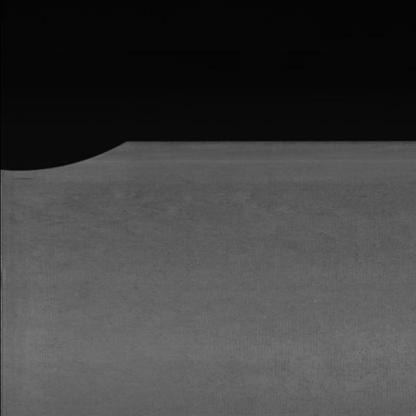crescent_gap: (0, 127, 136, 179)
